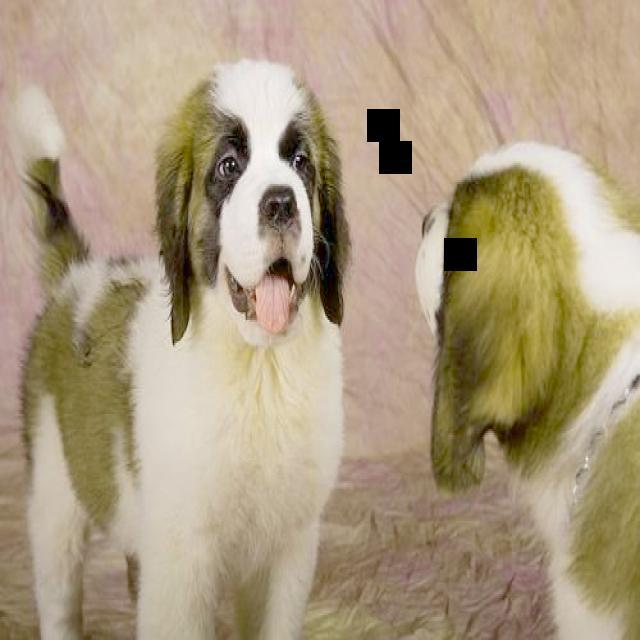adult_dog: (415, 138, 640, 640)
puppy-dog: (3, 51, 352, 640)
